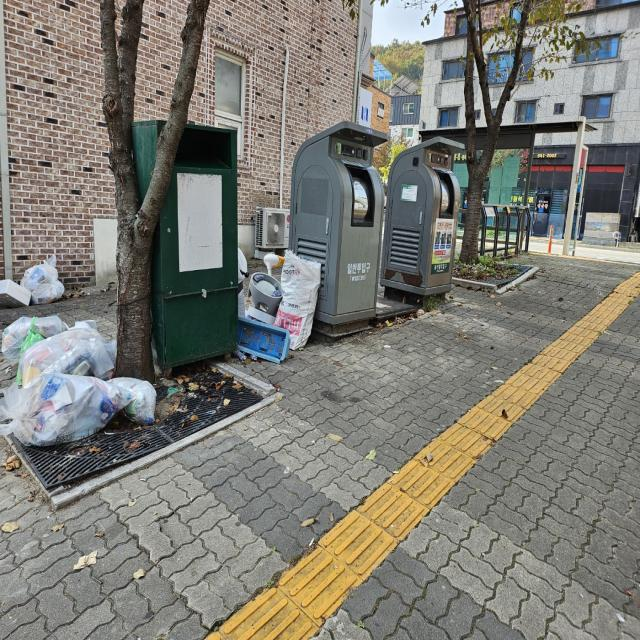CleanNet: (289, 122, 384, 328), (384, 138, 464, 290)
General Waste: (0, 252, 156, 465), (229, 234, 318, 368)
